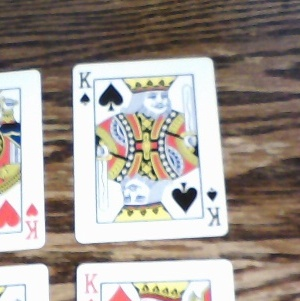card: (69, 56, 231, 245)
